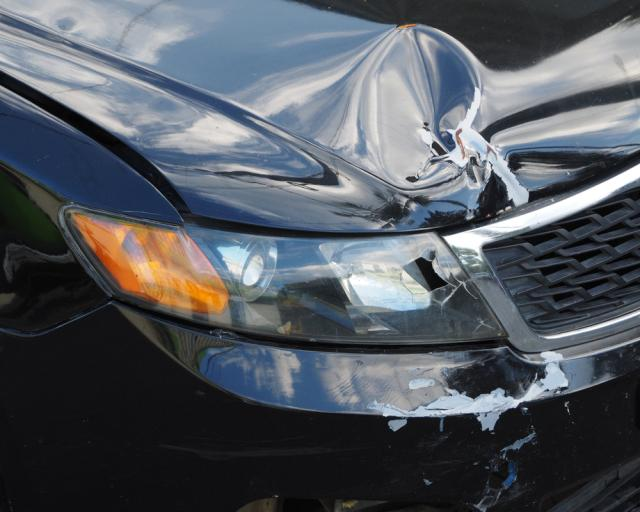dent: (369, 27, 640, 203)
lamp broken: (65, 208, 509, 346)
scratch: (363, 348, 573, 512)
